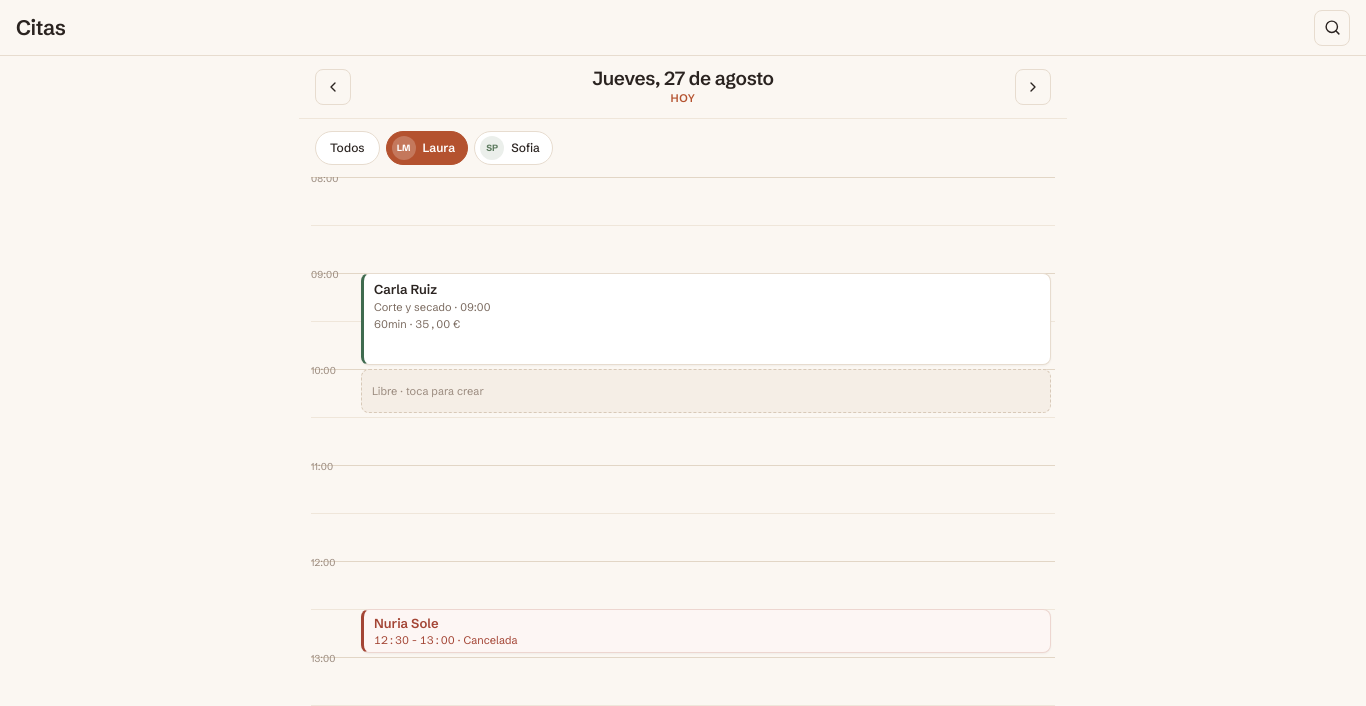
Test: CalendarPage › en movil pulsar un bloque abre la HOJA de detalle, no el panel
Click the text "Carla Ruiz": (406, 290) x1=374 y1=282 x2=437 y2=298
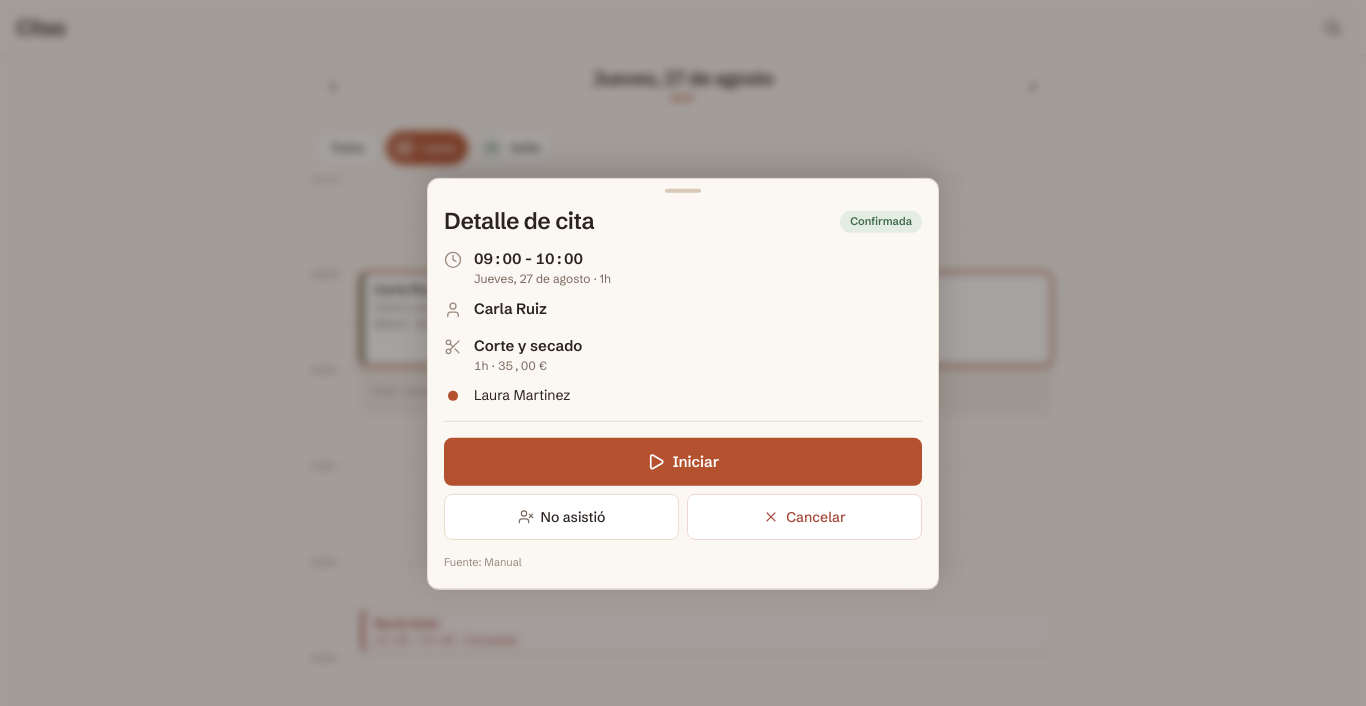
Now the element with test id "detail-sheet-grabber" is shown, box x1=665 y1=189 x2=701 y2=193
Now the heading "Detalle de cita" is shown, box x1=444 y1=209 x2=594 y2=234
